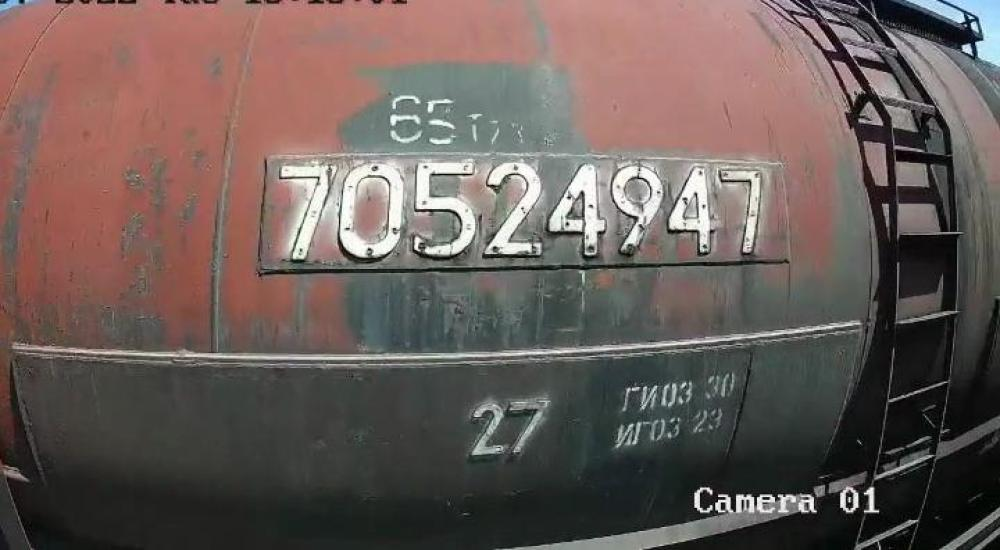Wagon-number: (276, 154, 770, 264)
